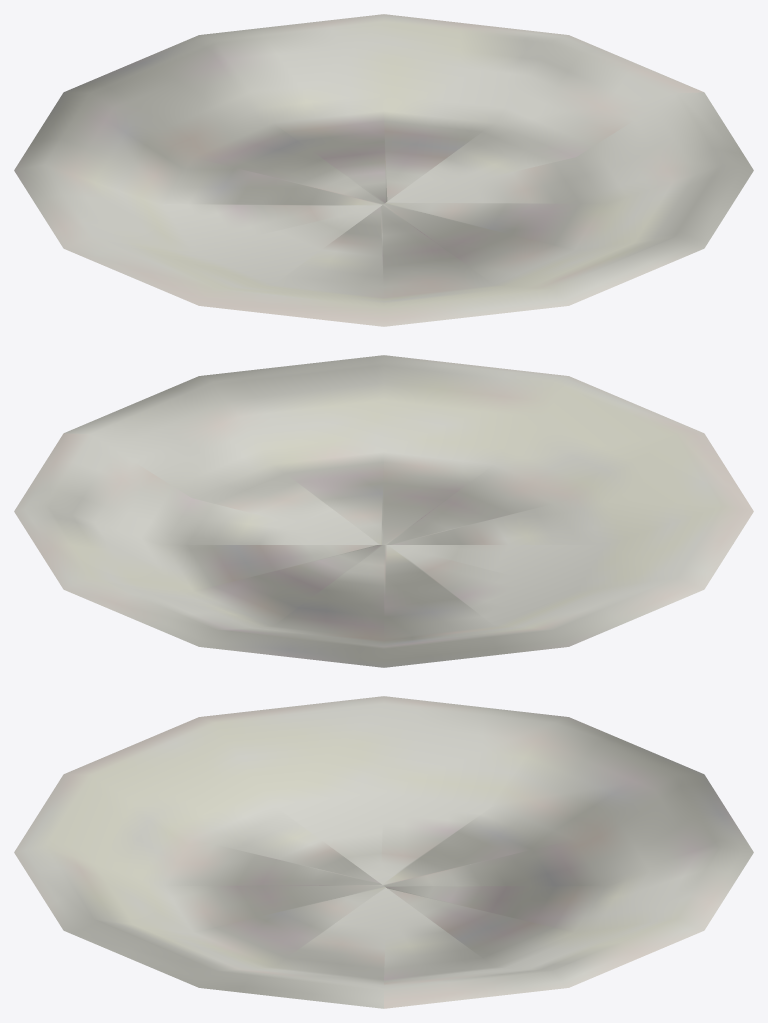
File: plate.obj
3 views of the same model, one above another, from view 1: azimuth 30°, elevation 25°; view 2: azimuth 150°, elevation 25°; view 3: azimuth 270°, elevation 25° (orthographic).
Visible parts, largest first — view 1: plate; view 2: plate; view 3: plate.
Boxes of the visible parts, x1,y1,x2,y2 form: plate: (14,14,753,326); plate: (14,355,753,667); plate: (14,696,753,1008).
Size of the model in its own units: 0.24 by 0.02 by 0.24.
Materials: 1 (1 with a texture image).
